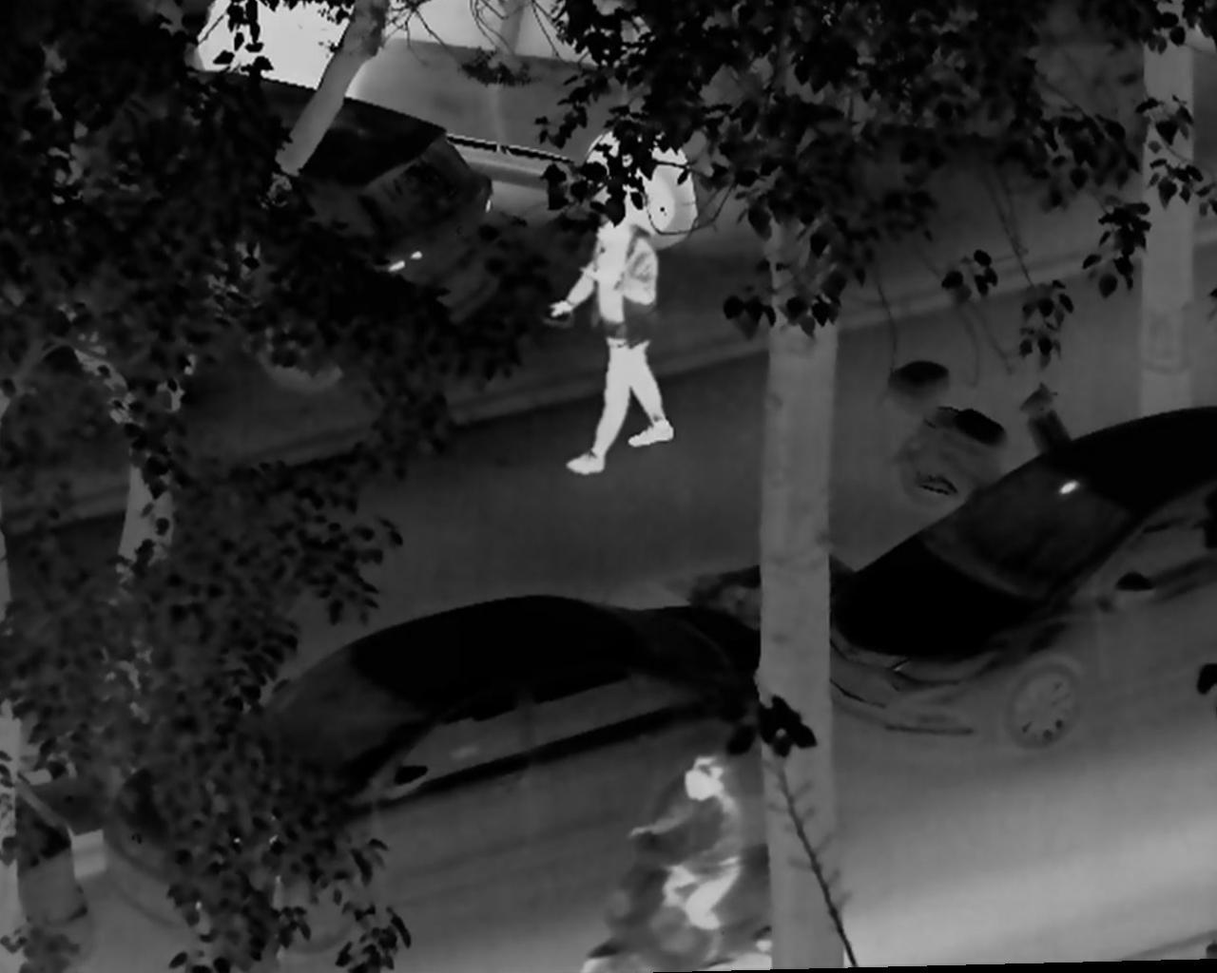person: (546, 205, 679, 476), (628, 742, 749, 962)
